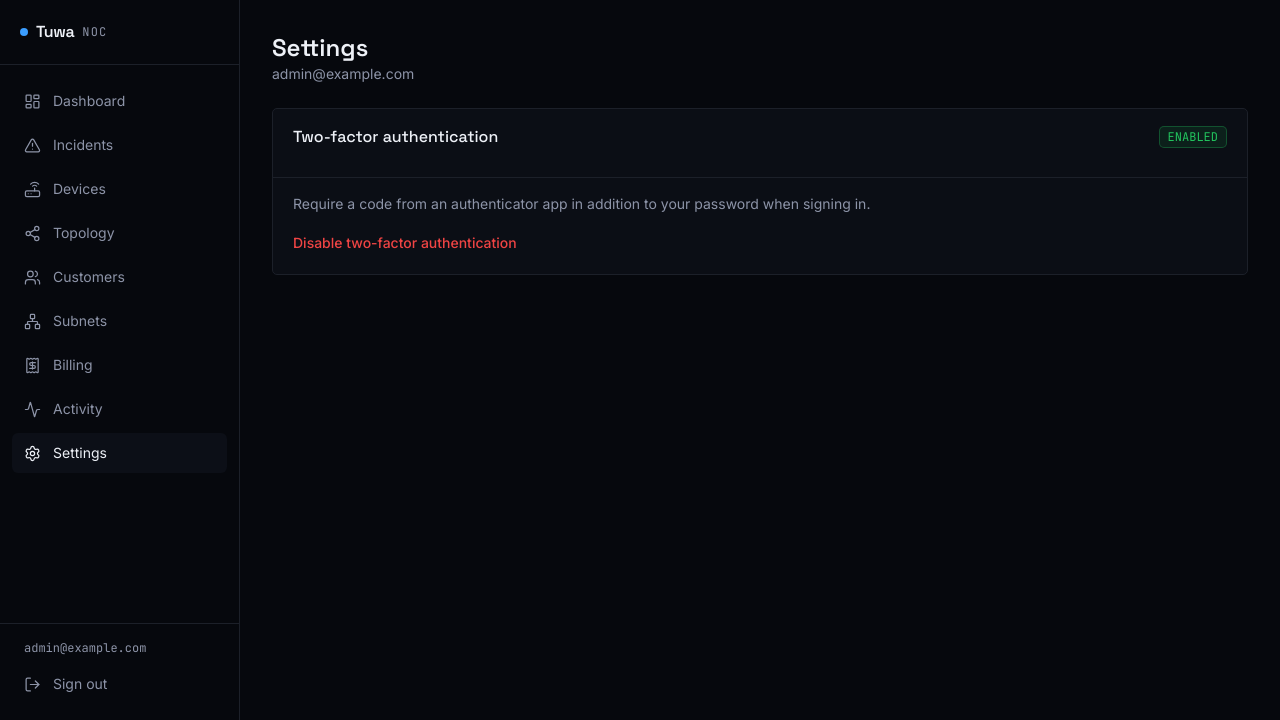
it: Settings › shows an error when disabling with an incorrect password
Click the button "Disable two-factor authentication" at (405, 243), box [293,233,517,253]
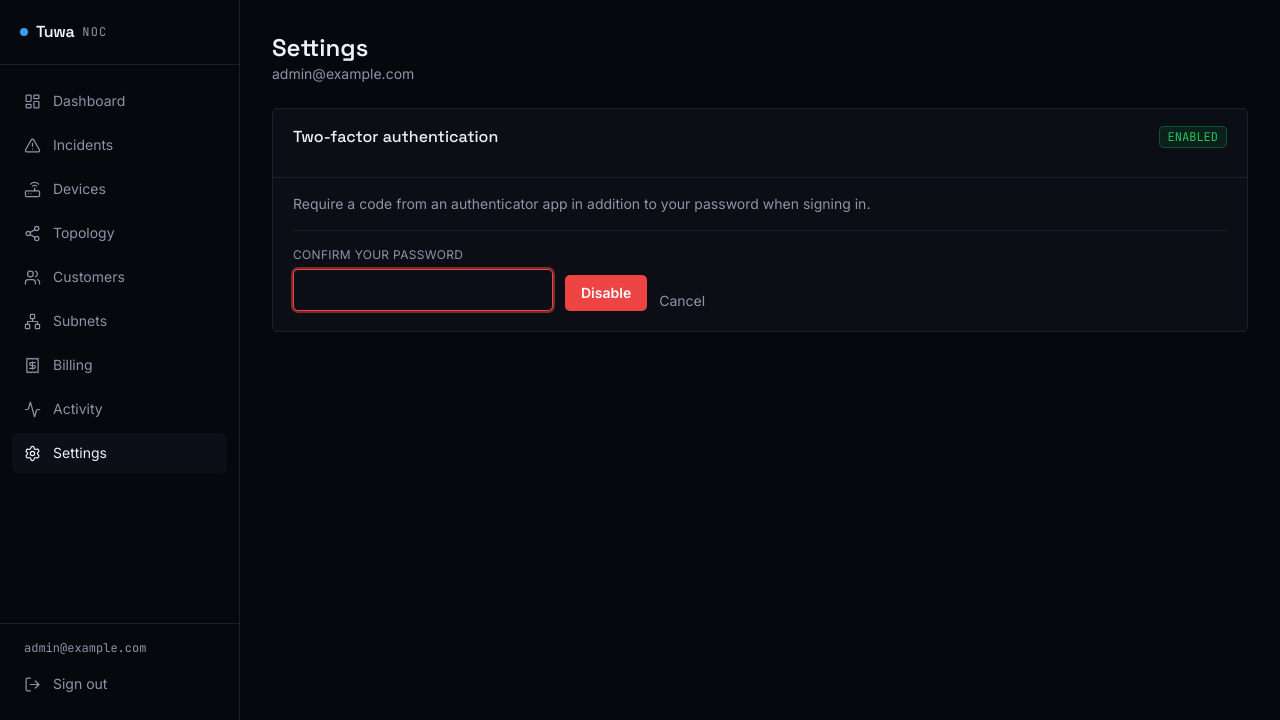
Type "wrong-password" into the password field labelled "Confirm your password" at (423, 290), box [293,269,553,311]
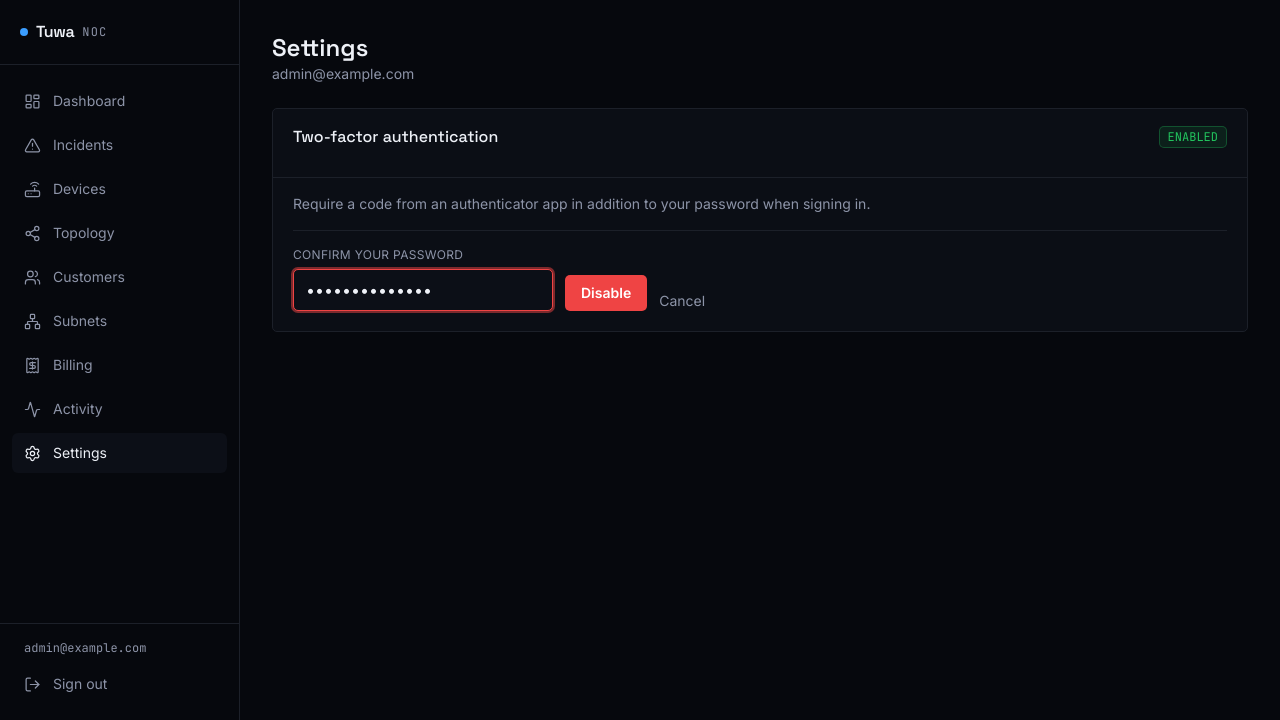
Click the button "Disable" at (606, 293), box [565,275,647,311]
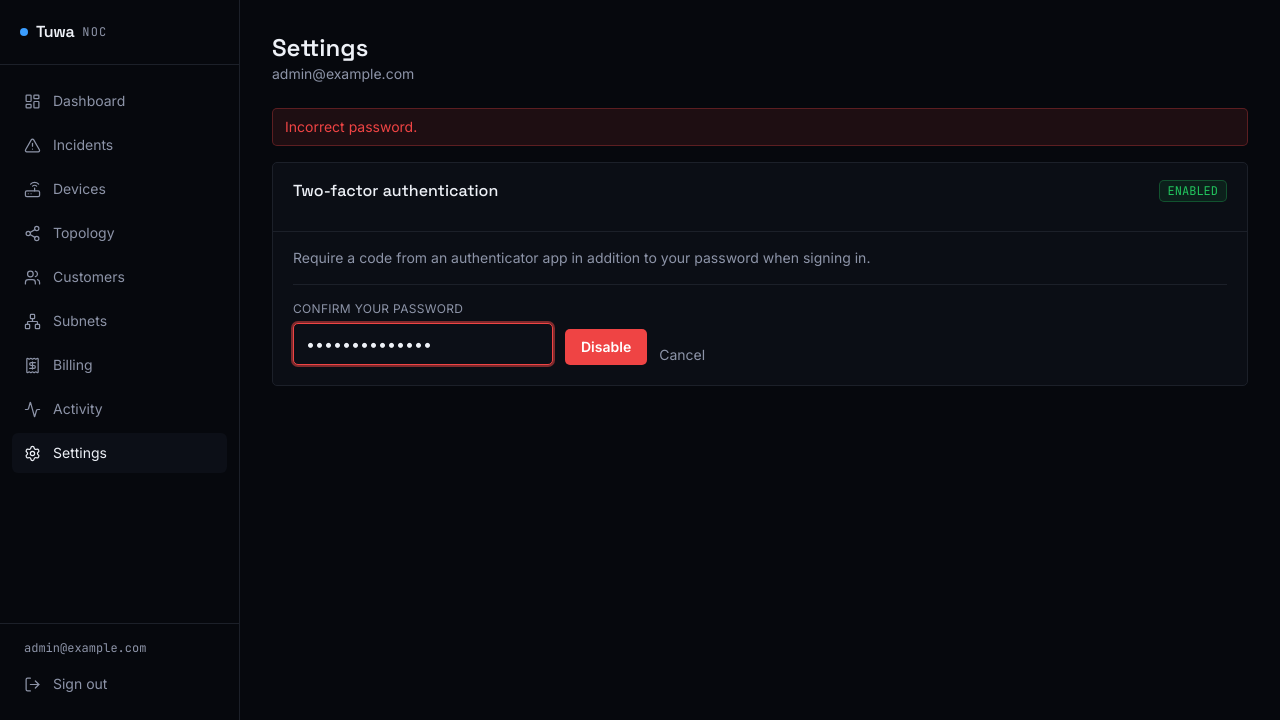
expect the text "Incorrect password." is shown: met, box [272,108,1248,146]
